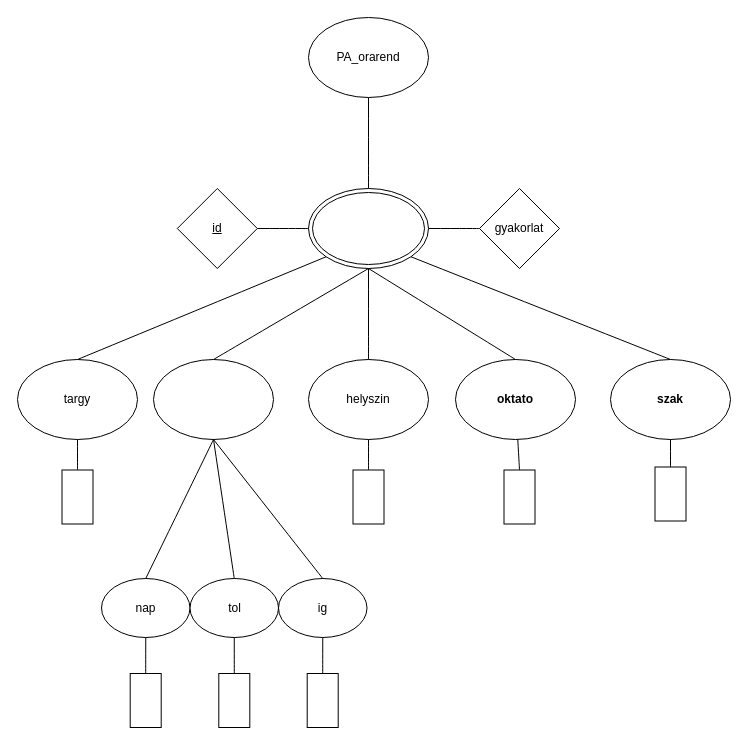
This 748x745 diagram has some shape labels left out. Here are the shapes that lost their labels. From the top down, the centre of each, then its label:
At (368,228): "ora".
At (213,399): "idopont".
